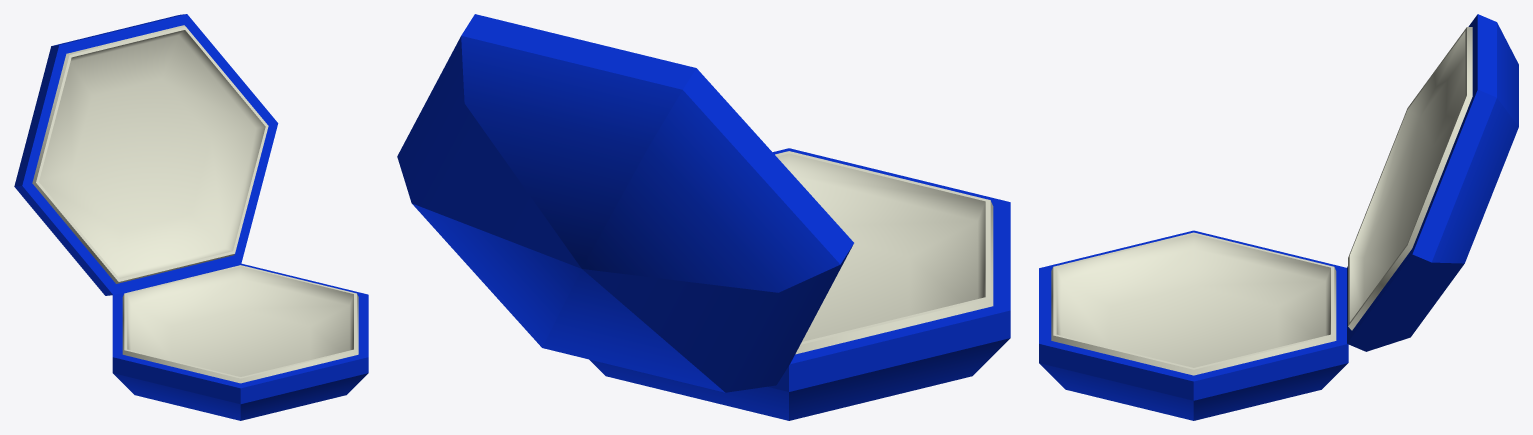
3 views of the same model, side by side, from view 1: azimuth 30°, elevation 25°; view 2: azimuth 150°, elevation 25°; view 3: azimuth 270°, elevation 25° (orthographic). The views are drawn at different scales.
Parts seen in each view (by area): view 1: pCylinder16; view 2: pCylinder16; view 3: pCylinder16.
Boxes of the visible parts, x1,y1,x2,y2 form: pCylinder16: (14, 14, 368, 420); pCylinder16: (397, 14, 1010, 420); pCylinder16: (1039, 14, 1518, 420).
Bounding box in the file's own units: 13.13 × 13.19 × 17.64.
